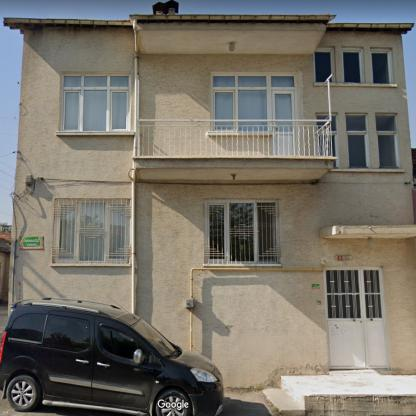door: (324, 266, 388, 368), (272, 89, 300, 156)
window: (210, 72, 296, 132), (53, 199, 130, 263), (204, 199, 280, 263), (60, 71, 129, 133), (376, 113, 400, 168), (346, 113, 369, 168), (317, 113, 339, 169), (342, 46, 366, 83), (371, 48, 393, 83), (315, 48, 335, 84)
